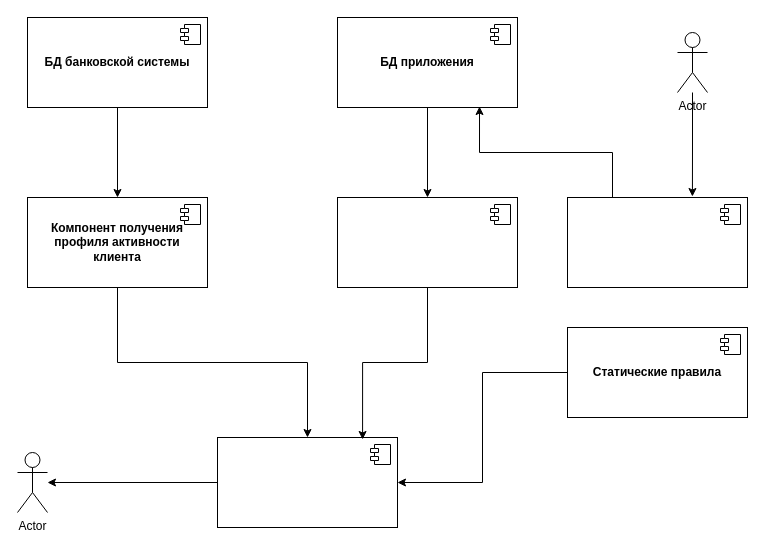
Image size: 765x551. Some labels were removed from this diagram. The shapes that lost their labels are listed below. From the top down, each one's centre as x and y in pixels, then its label:
At (x=427, y=242): "Построитель динамических правил".
At (x=657, y=242): "Компонент управления рекомендациями".
At (x=307, y=482): "Фильтр рекомендаций".
